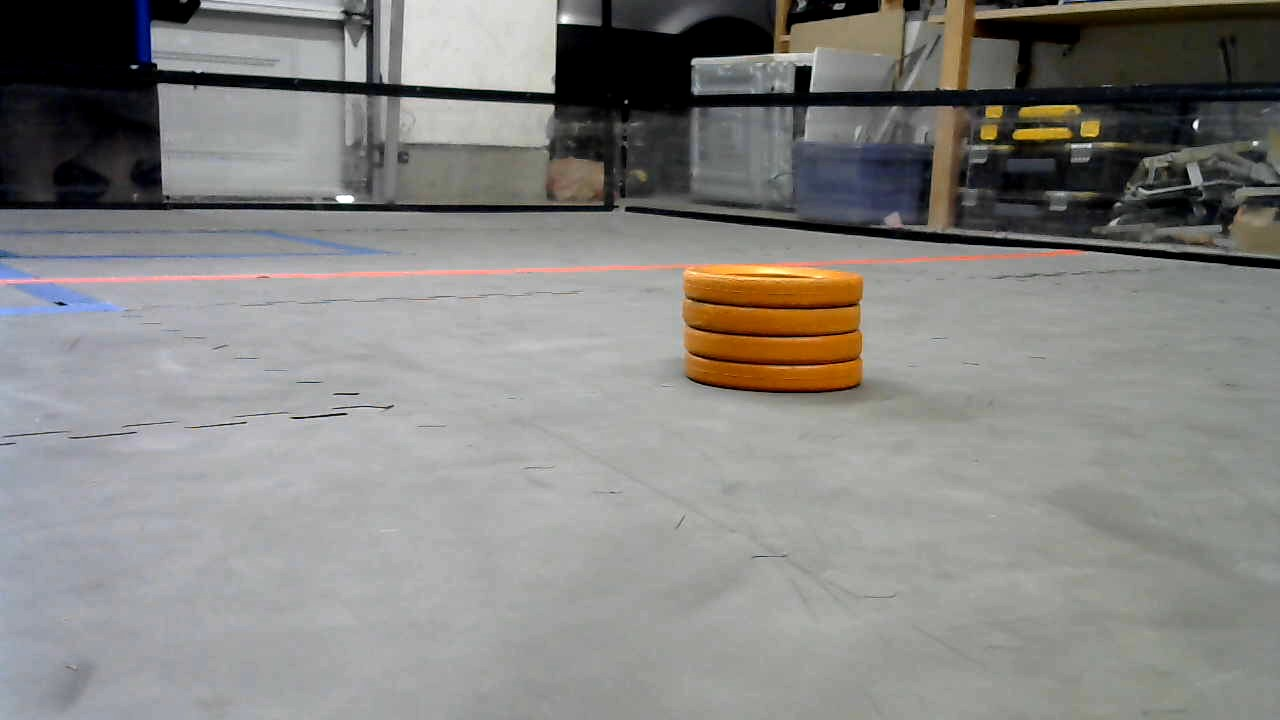FourStack: (682, 266, 865, 392)
